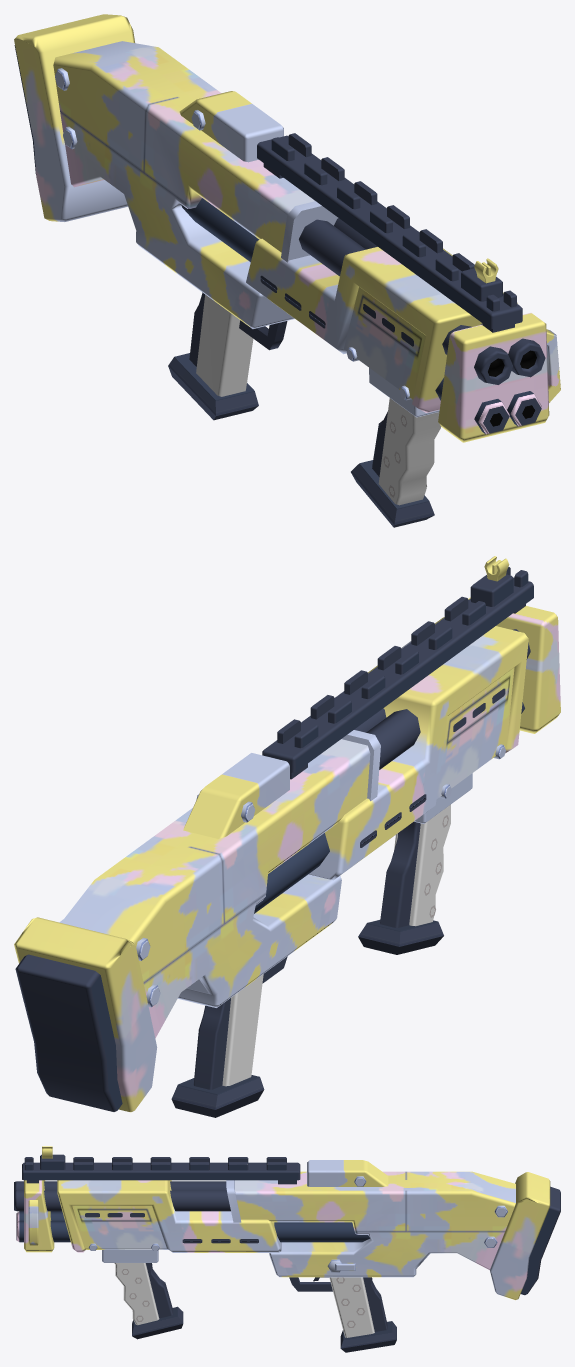
The model's file is Reisa_gun_Fixed.fbx.
3 renders of one model, top to bottom at view 1: azimuth 30°, elevation 25°; view 2: azimuth 150°, elevation 25°; view 3: azimuth 270°, elevation 25°, orthographic. The views are drawn at different scales.
Parts seen in each view (by area): view 1: CH0167_Weapon; view 2: CH0167_Weapon; view 3: CH0167_Weapon.
Boxes of the visible parts, left/top/right/bottom form: CH0167_Weapon: left=14, top=14, right=560, bottom=527; CH0167_Weapon: left=14, top=556, right=560, bottom=1117; CH0167_Weapon: left=14, top=1146, right=560, bottom=1352.
Size of the model in its own units: 4.31 by 12.95 by 32.2.
Materials: 1 (1 with a texture image).
